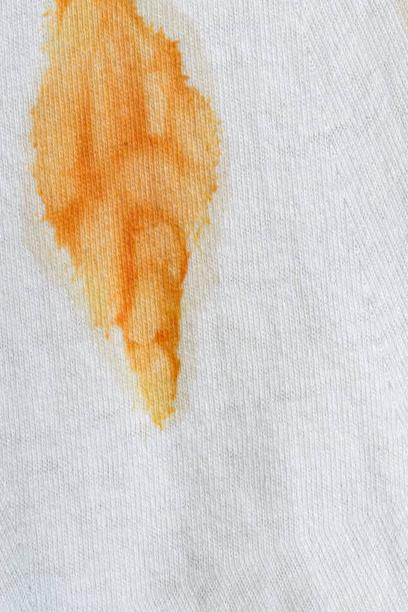stain: (25, 0, 226, 427)
